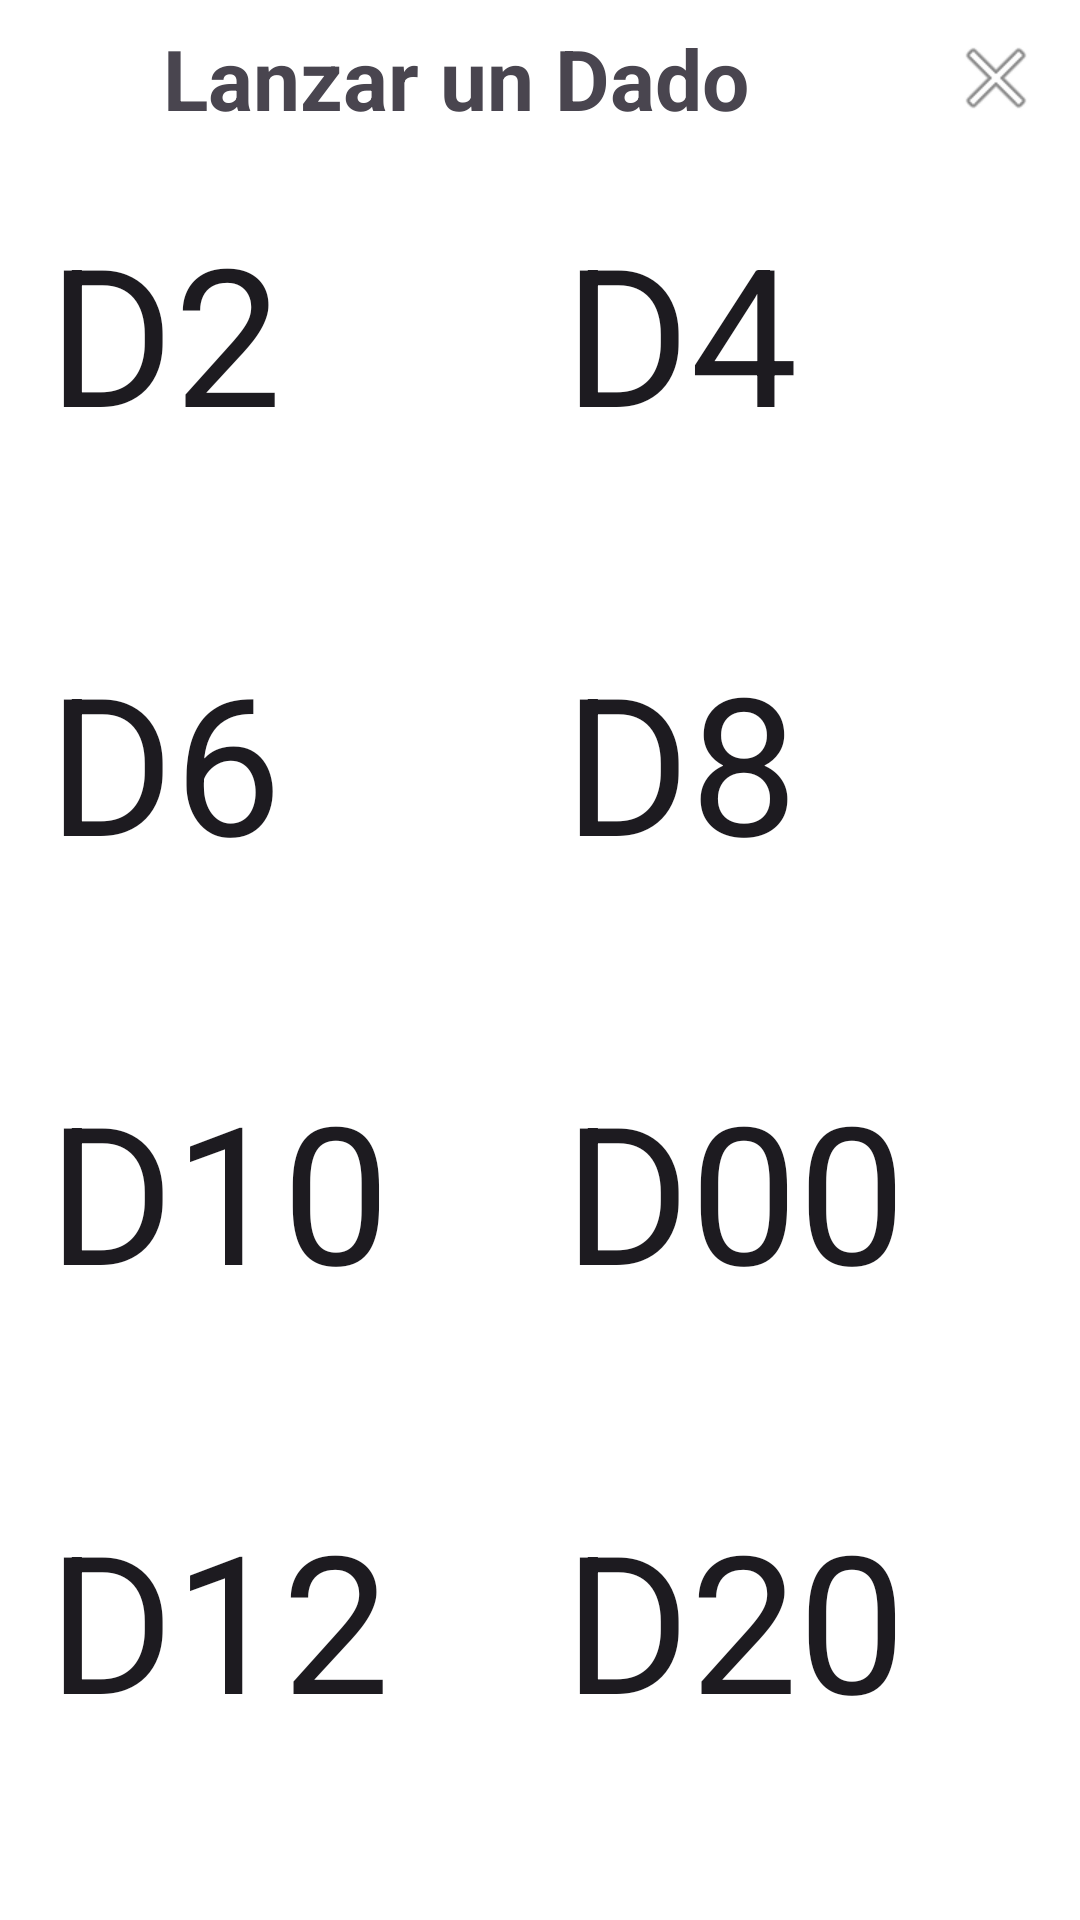

Point at icon controls on the screen. Image size 1080w x 1920h, points as (x,y).
Volver: (996,78)
